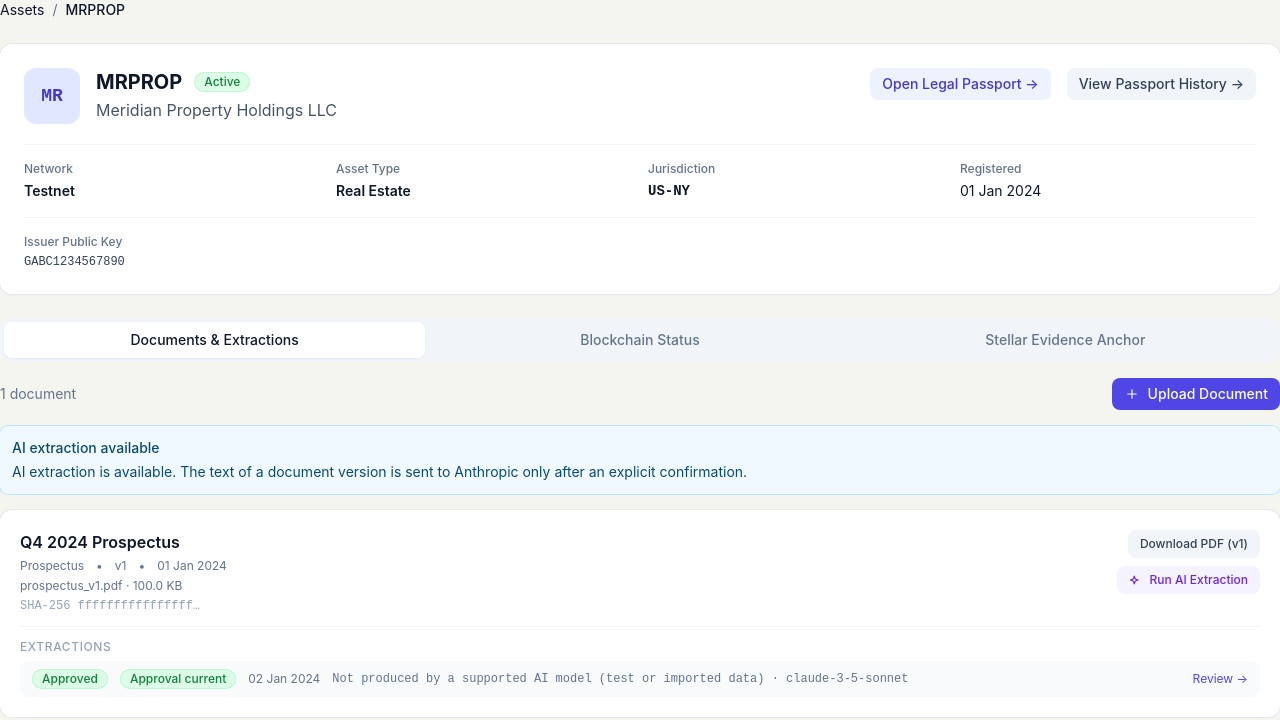
Scenario: PDF download › refuses bytes that do not match the recorded hash
Click the button with test id "download-document" at {"x": 1194, "y": 544}, box [1128, 530, 1260, 558]
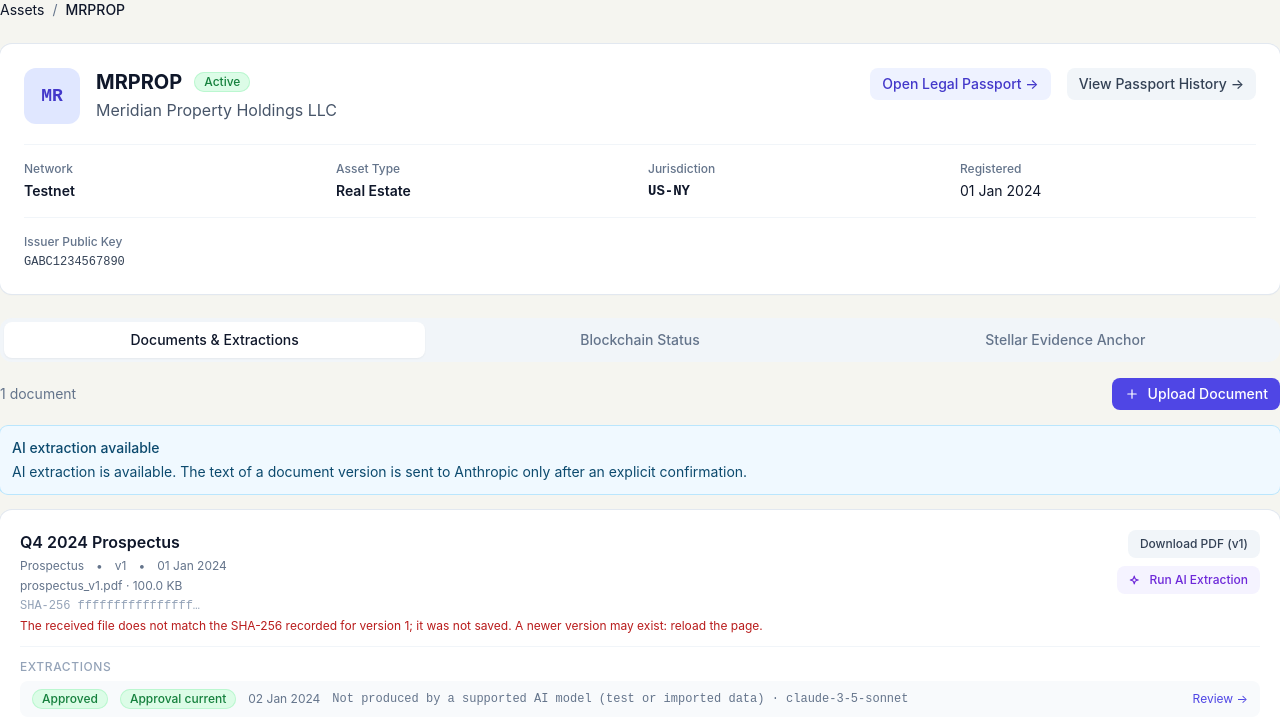
Check: the message with test id "download-error" shows "does not match the SHA-256 recorded for version 1; it was not saved", box [20, 618, 763, 633]
